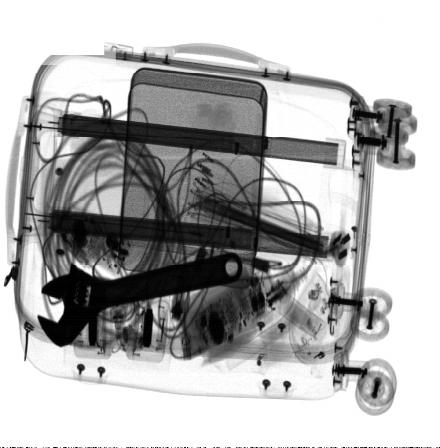Wrench: (37, 252, 243, 347)
